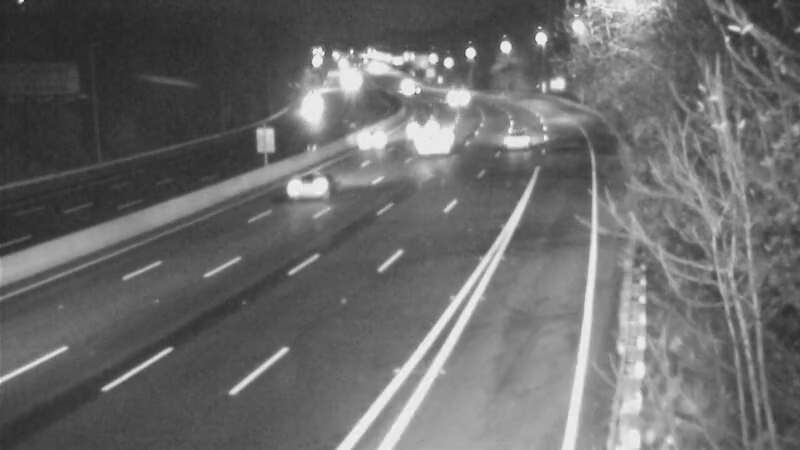vehicle: (268, 148, 348, 228), (424, 70, 474, 120), (396, 94, 446, 144), (413, 112, 463, 162), (348, 113, 398, 163), (486, 120, 536, 170), (282, 83, 332, 133)
